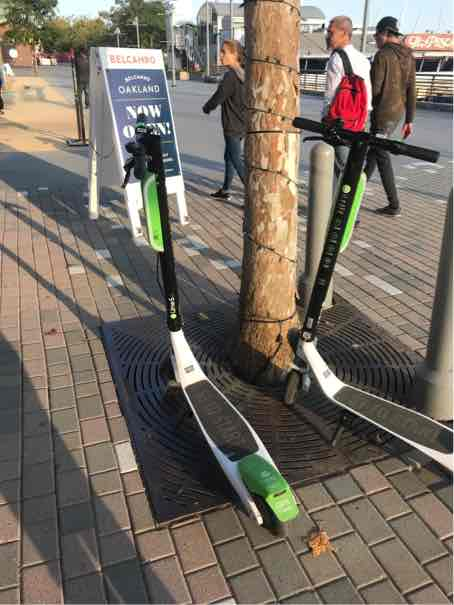scooter: (101, 108, 318, 540), (283, 124, 453, 493)
